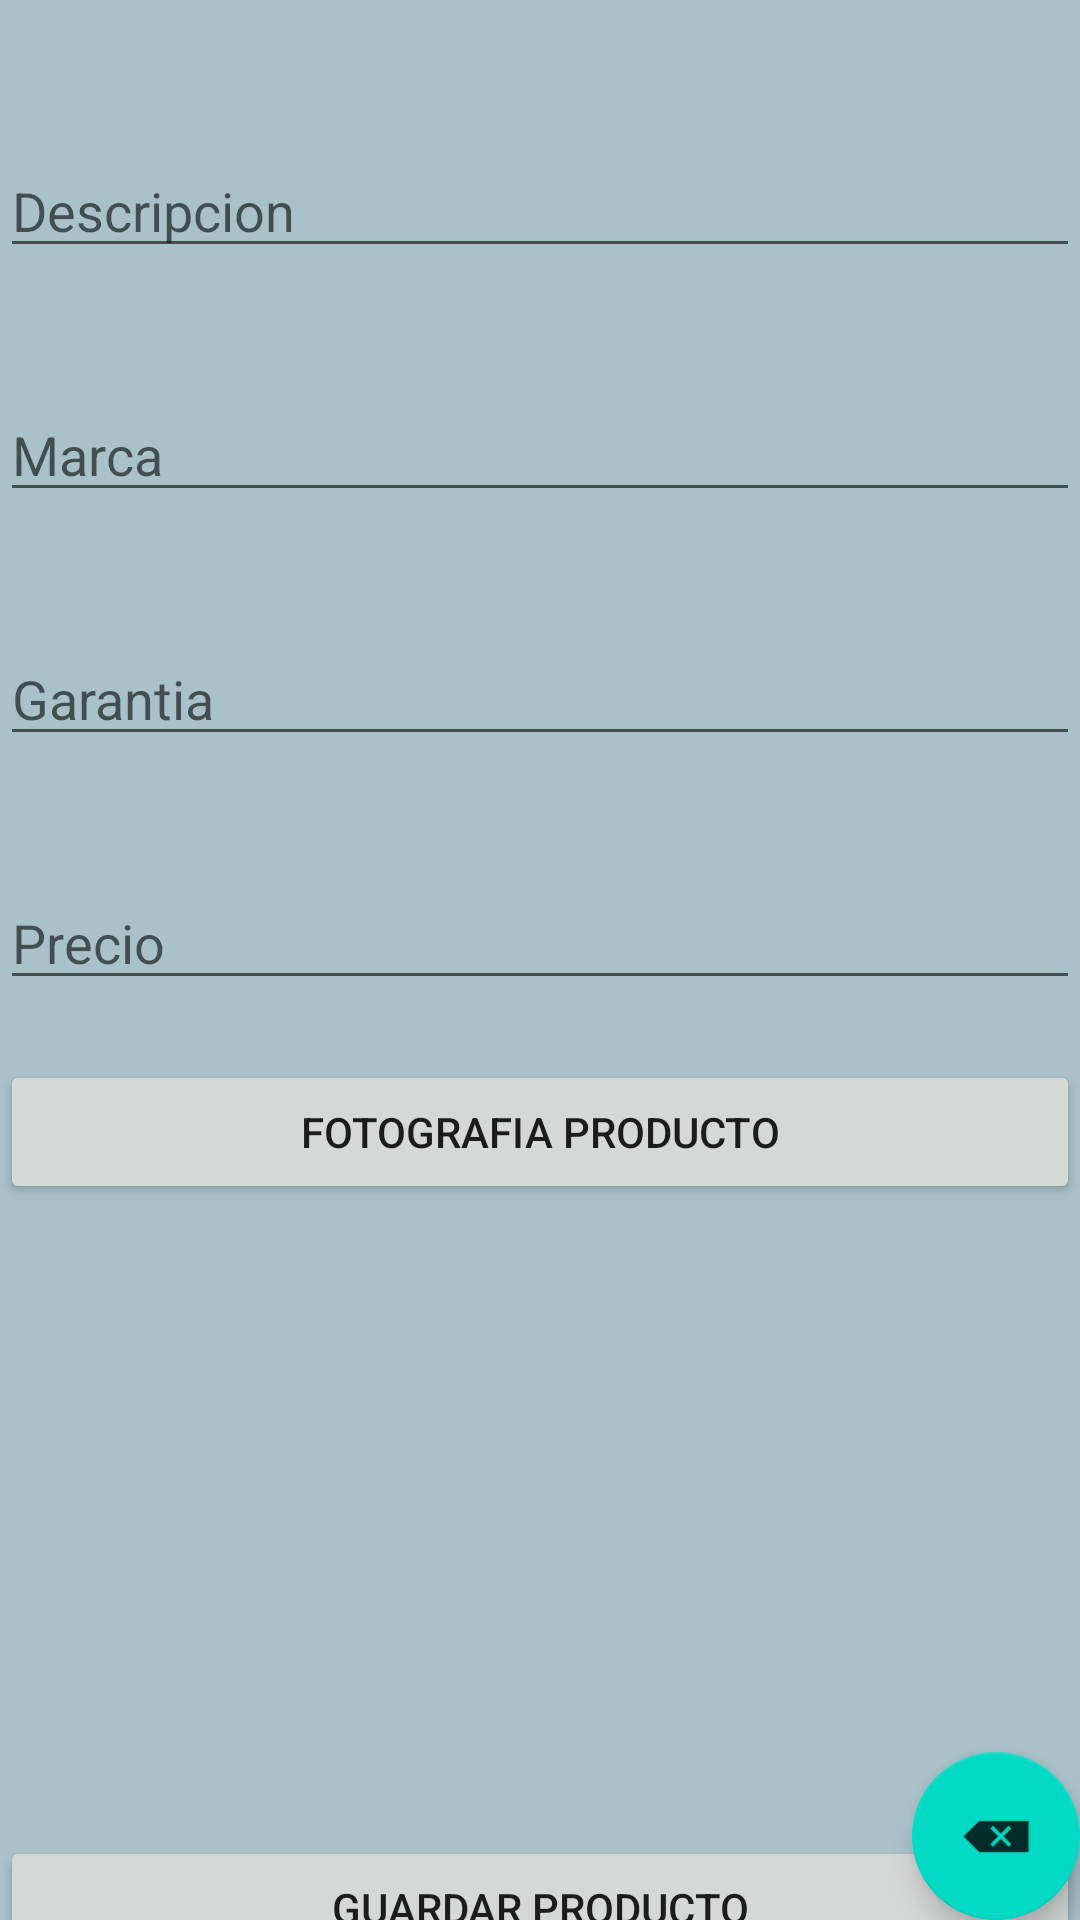

Locate icon controls on the screen. Image size 1080×1920, boxes as (x1, y1, x2, y2).
delete: (912, 1752, 1080, 1920)
